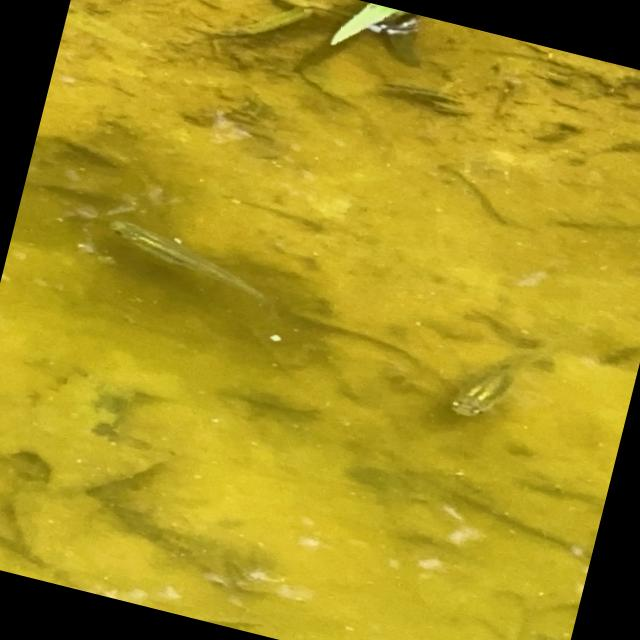Sivrisinek Baligi: (90, 210, 272, 300), (436, 328, 542, 432)
